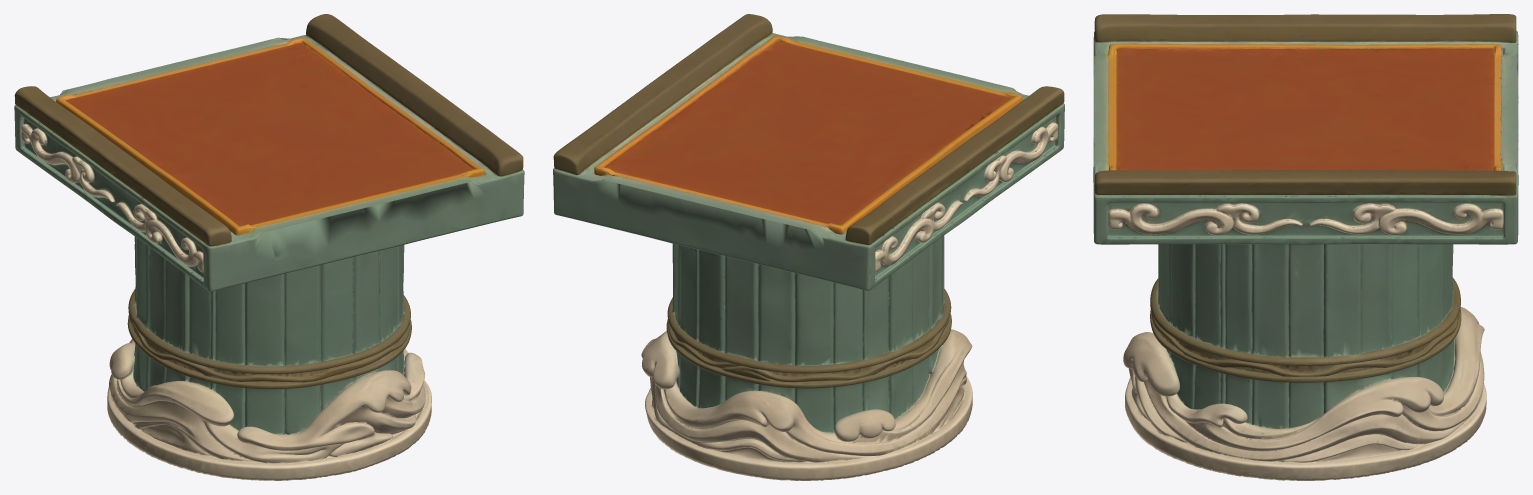
Rendered from act1_entry_bridge_rodin.glb.
3 views of the same model, side by side, from view 1: azimuth 30°, elevation 25°; view 2: azimuth 150°, elevation 25°; view 3: azimuth 270°, elevation 25° (orthographic). The views are drawn at different scales.
Visible parts, largest first — view 1: SM_Act1_EntryBridgeRodin; view 2: SM_Act1_EntryBridgeRodin; view 3: SM_Act1_EntryBridgeRodin.
Part boxes in pixels (x1=…): SM_Act1_EntryBridgeRodin: x1=14, y1=14, x2=524, y2=480; SM_Act1_EntryBridgeRodin: x1=553, y1=14, x2=1064, y2=480; SM_Act1_EntryBridgeRodin: x1=1093, y1=14, x2=1518, y2=480.
Size of the model in its own units: 1.64 by 1.42 by 1.74.
1 material, 1 textured.
